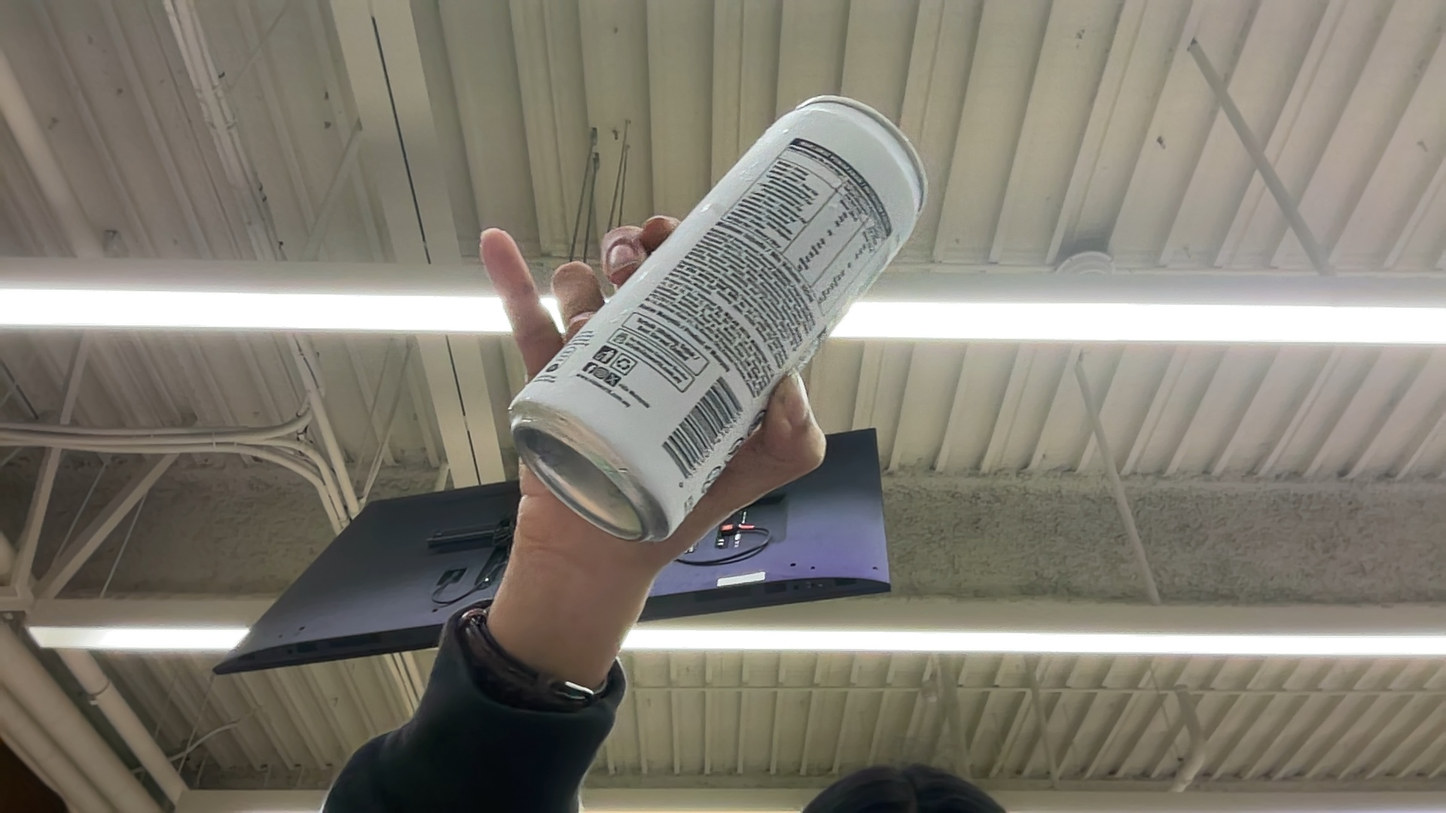Metal: (466, 78, 987, 745)
